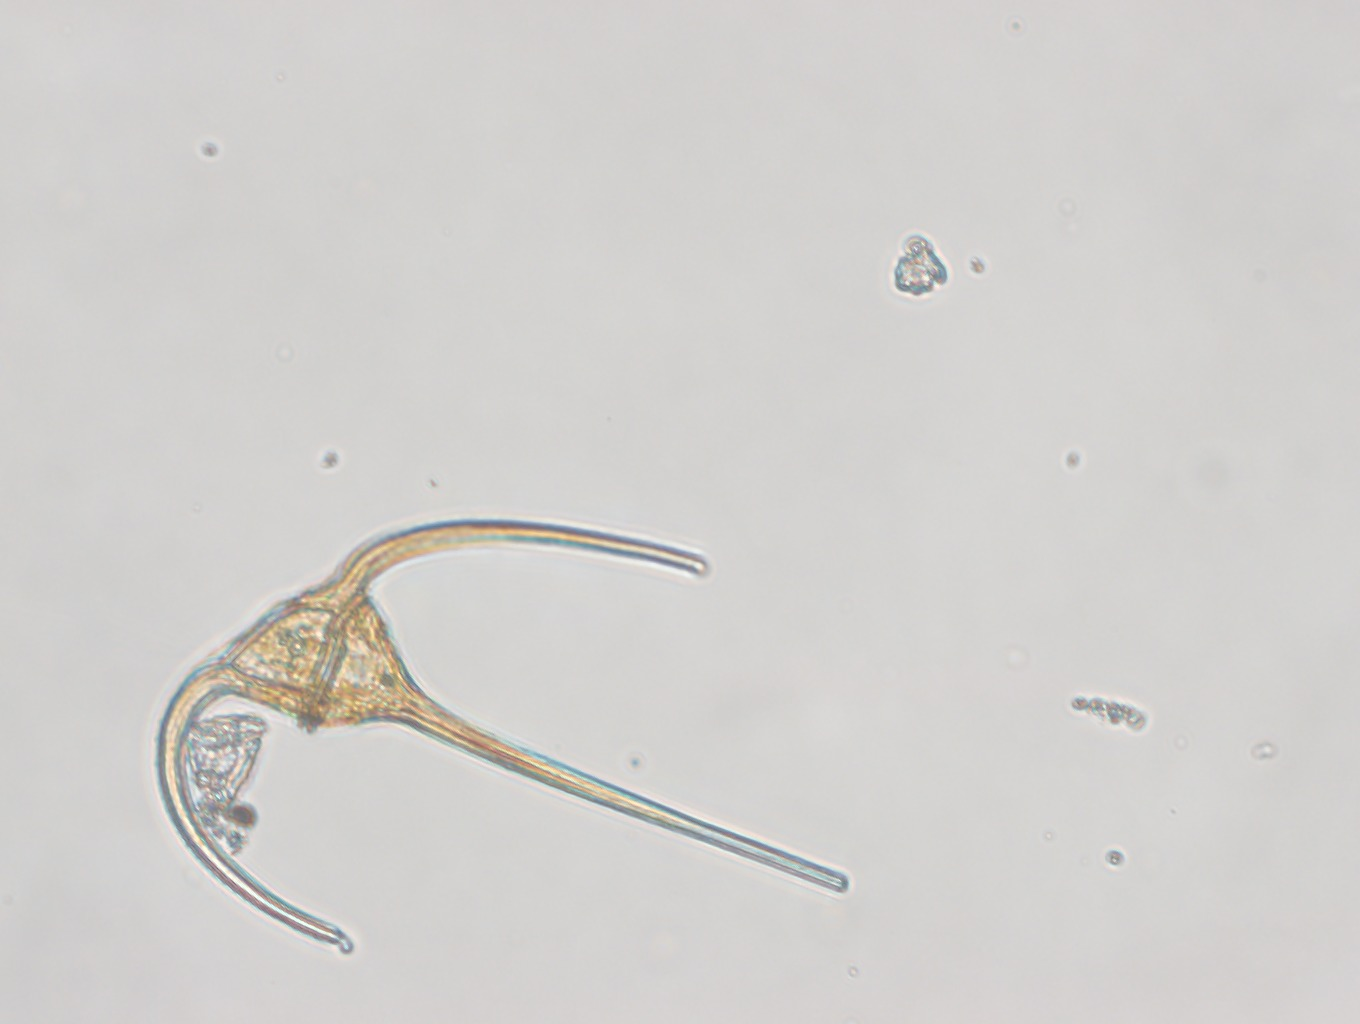ceratium trichoceros: (151, 507, 858, 956)
